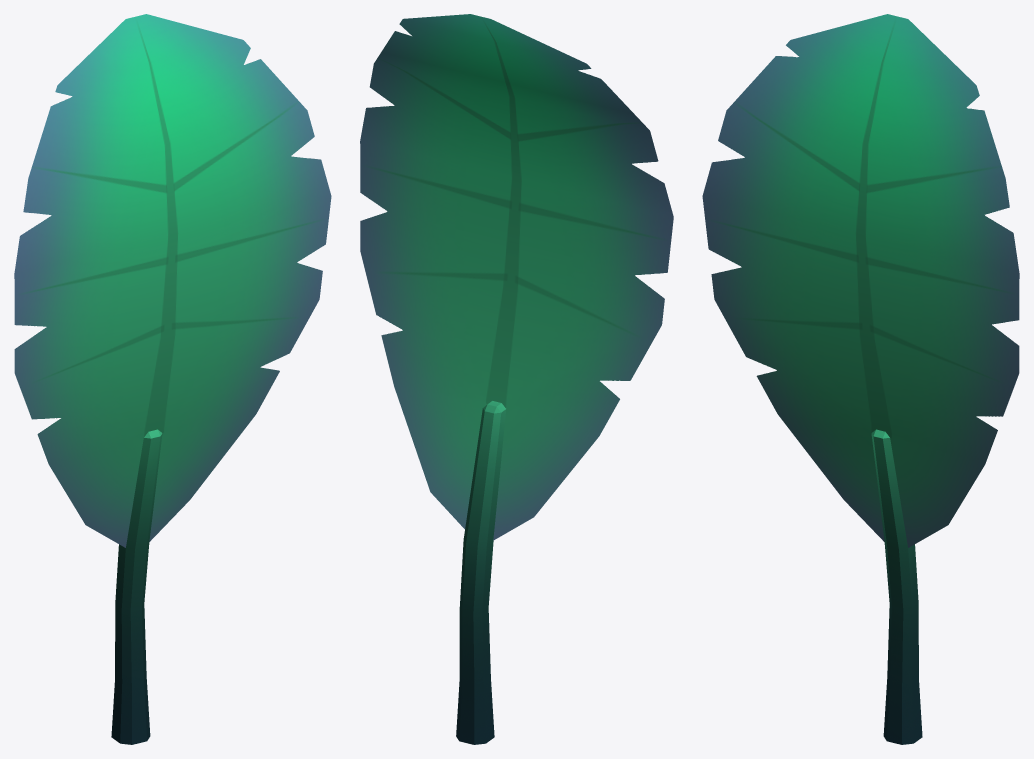
File: Plante_2.fbx
The picture shows the model from 3 angles, left to right: view 1: azimuth 30°, elevation 25°; view 2: azimuth 150°, elevation 25°; view 3: azimuth 330°, elevation 25°; orthographic projection.
Visible parts, largest first — view 1: polySurface10; view 2: polySurface10; view 3: polySurface10.
Part boxes in pixels (x1,y1,x2,y2): polySurface10: (14,14,331,744); polySurface10: (360,14,673,744); polySurface10: (702,14,1019,744).
Size of the model in its own units: 3.69 by 8.05 by 1.03.
